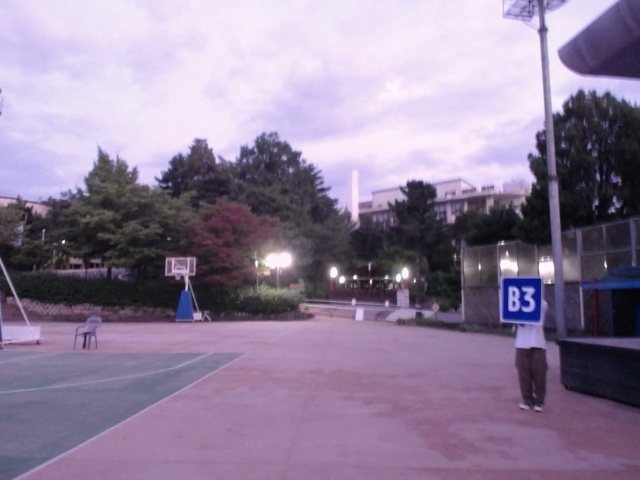delivery_b3: (501, 275, 543, 326)
